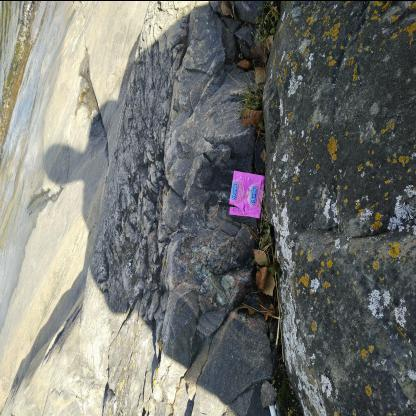plastik: (230, 171, 267, 219)
